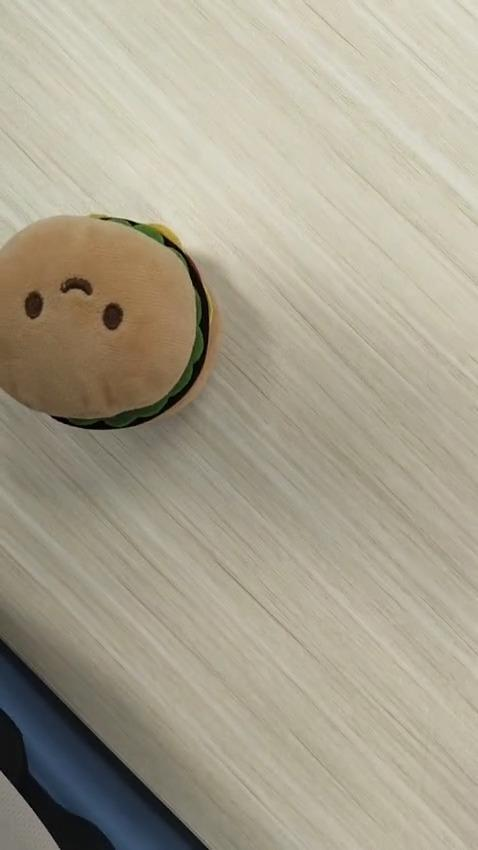hamburger: (1, 210, 224, 438)
